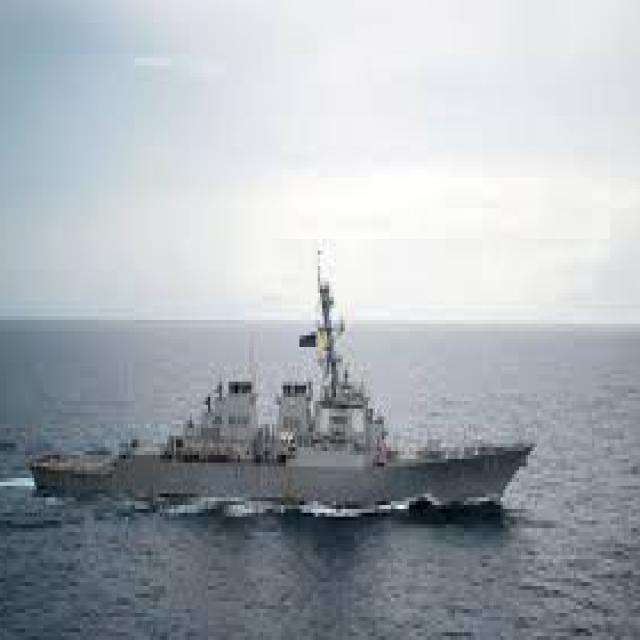navalvessels: (29, 278, 543, 520)
